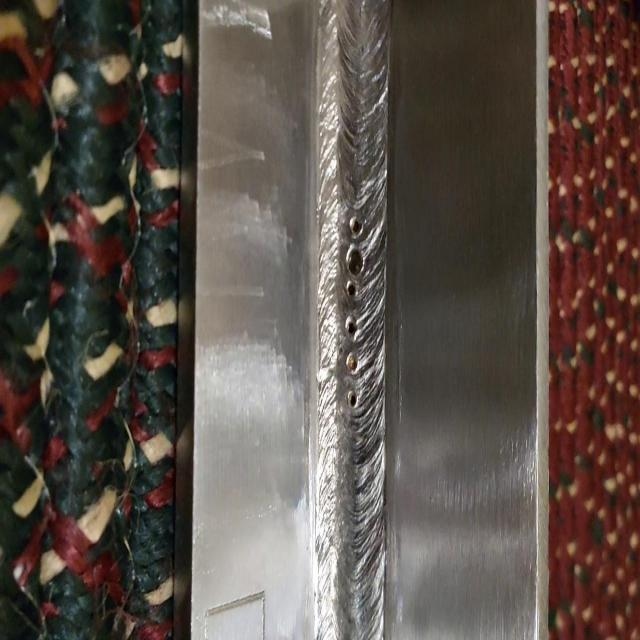Welding Line: (320, 7, 383, 640)
Workpiece: (187, 6, 551, 640)
porosity: (346, 214, 365, 408)
